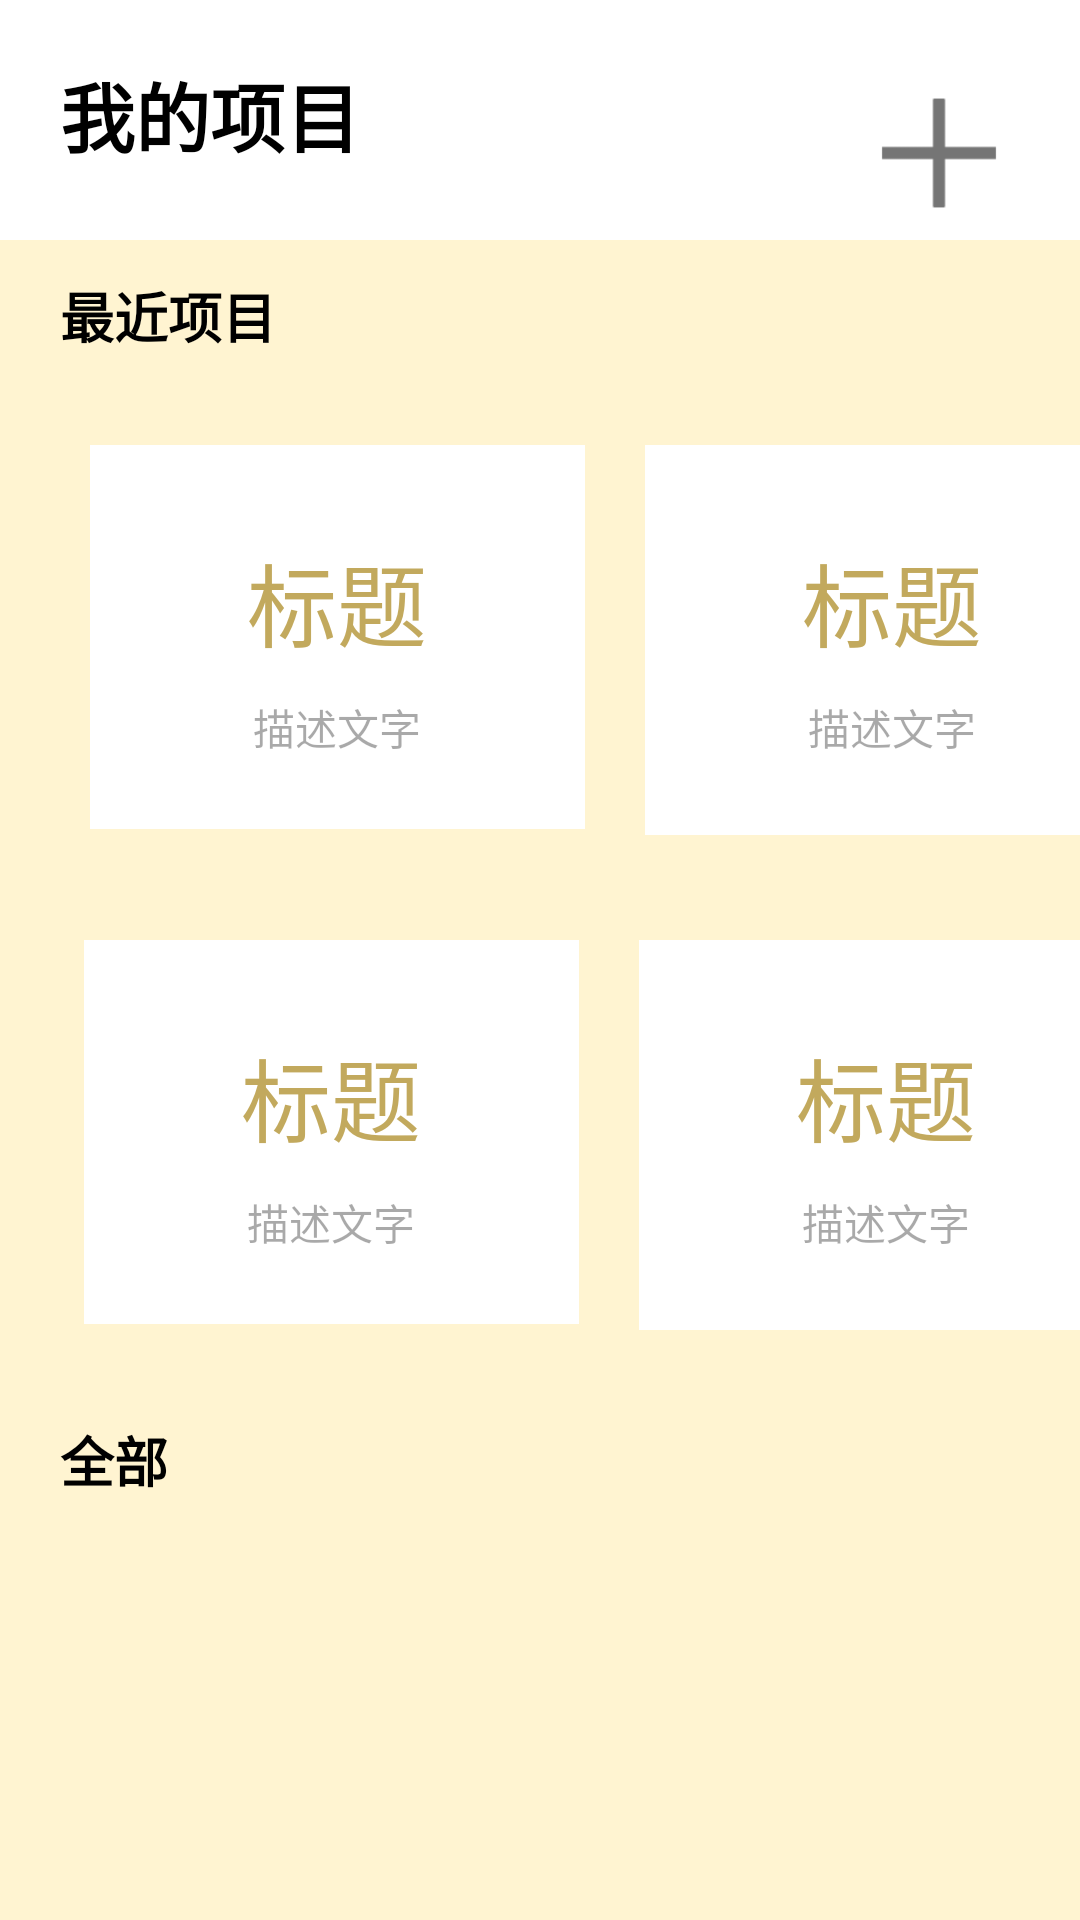

Icons on this 1080px x 1920px Android screen, each with the point to tap as [x,y]:
add: [939,153]
